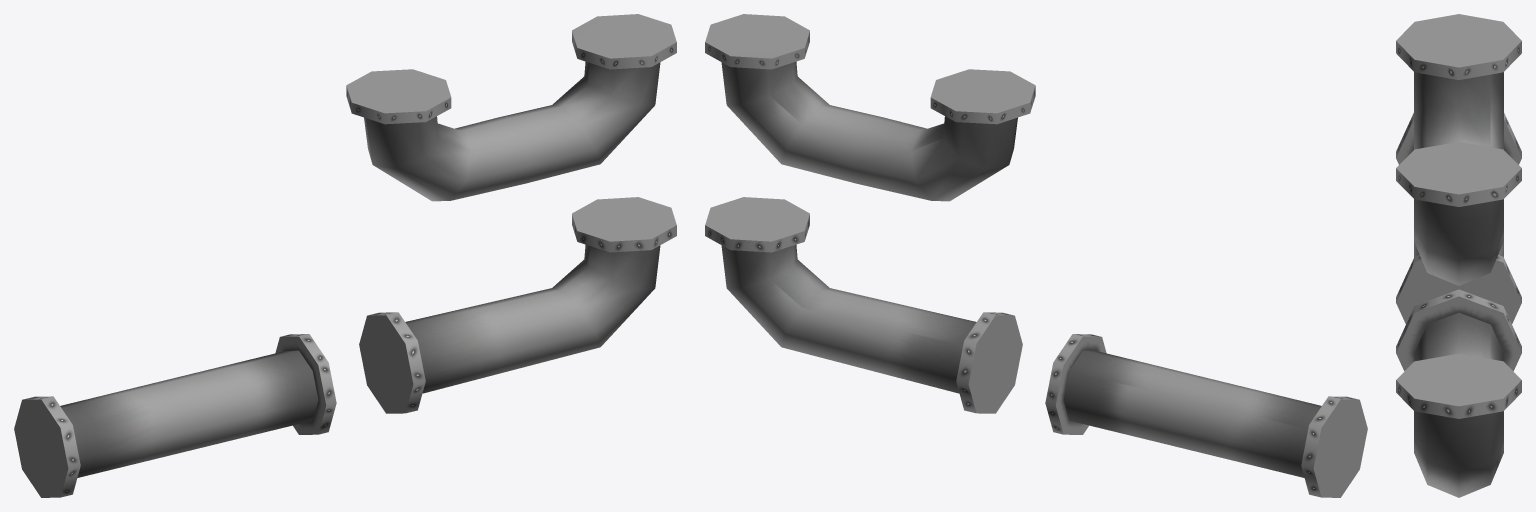
File: Model_Pipes.fbx
3 renders of one model, left to right at view 1: azimuth 30°, elevation 25°; view 2: azimuth 150°, elevation 25°; view 3: azimuth 270°, elevation 25°, orthographic. The views are drawn at different scales.
Visible parts, largest first — view 1: Pipe_003, Pipe_002, Pipe_001; view 2: Pipe_003, Pipe_002, Pipe_001; view 3: Pipe_003, Pipe_002, Pipe_001.
Part boxes in pixels (x1=…): Pipe_003: x1=346, y1=14, x2=676, y2=201; Pipe_002: x1=359, y1=197, x2=676, y2=413; Pipe_001: x1=14, y1=334, x2=336, y2=497; Pipe_003: x1=705, y1=14, x2=1035, y2=201; Pipe_002: x1=705, y1=197, x2=1022, y2=413; Pipe_001: x1=1045, y1=334, x2=1367, y2=497; Pipe_003: x1=1396, y1=14, x2=1521, y2=285; Pipe_002: x1=1396, y1=289, x2=1521, y2=497; Pipe_001: x1=1396, y1=113, x2=1521, y2=323.
Bounding box in the file's own units: 0.8605 × 0.417 × 0.1286.
1 material, 1 textured.
